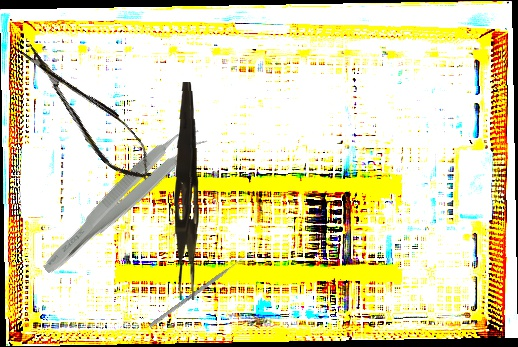Dressing Forceps: (170, 81, 203, 301)
Micro Scissor: (13, 31, 163, 193)
Pusher: (148, 253, 249, 329)
Tissue Forceps: (36, 117, 210, 286)
